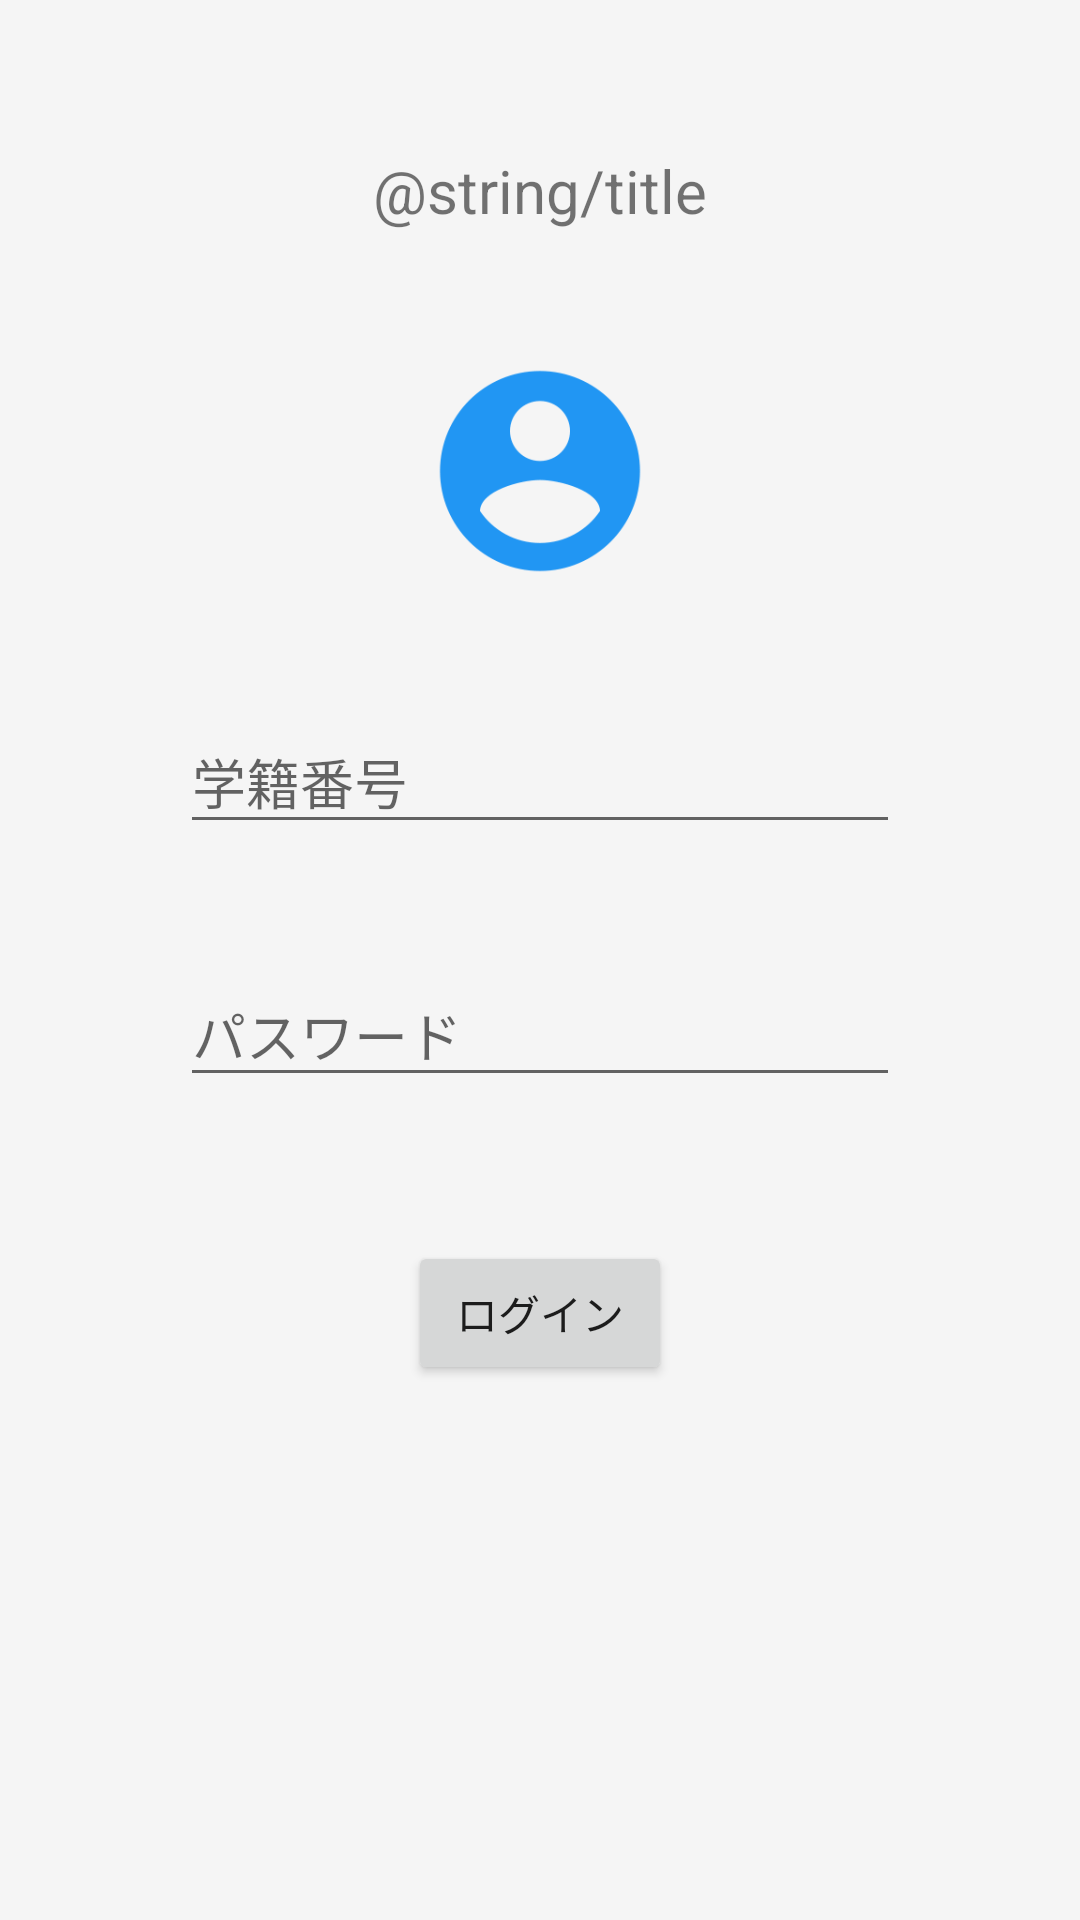

Point at icon controls on the screen. Image size 1080×1920, points as point (x, y).
other account circle: point (540, 471)
